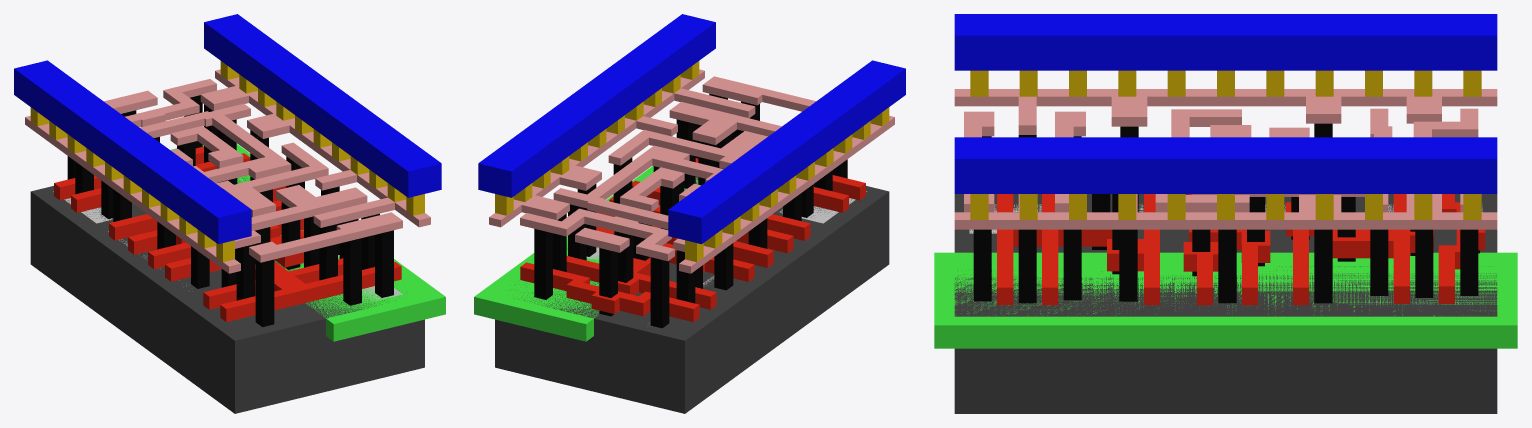
File: sky130_fd_sc_hd__lpflow_inputisolatch_1.obj
3 renders of one model, left to right at view 1: azimuth 30°, elevation 25°; view 2: azimuth 150°, elevation 25°; view 3: azimuth 270°, elevation 25°, orthographic. The views are drawn at different scales.
Parts seen in each view (by area): view 1: subs, metal1, li, licon, poly, nwell, mcon; view 2: subs, metal1, li, licon, poly, nwell, mcon, diff; view 3: metal1, subs, nwell, li, licon, poly, mcon.
Part boxes in pixels (x1=…): subs: x1=30, y1=178, x2=424, y2=413; metal1: x1=14, y1=14, x2=441, y2=244; li: x1=25, y1=69, x2=430, y2=273; licon: x1=67, y1=95, x2=393, y2=327; poly: x1=54, y1=146, x2=401, y2=322; nwell: x1=170, y1=144, x2=445, y2=341; mcon: x1=30, y1=61, x2=424, y2=262; subs: x1=495, y1=177, x2=889, y2=413; metal1: x1=478, y1=14, x2=905, y2=244; li: x1=489, y1=69, x2=894, y2=273; licon: x1=534, y1=93, x2=847, y2=328; poly: x1=520, y1=158, x2=865, y2=322; nwell: x1=474, y1=166, x2=698, y2=341; mcon: x1=495, y1=61, x2=889, y2=262; diff: x1=703, y1=191, x2=866, y2=286; metal1: x1=954, y1=14, x2=1497, y2=193; subs: x1=954, y1=194, x2=1497, y2=413; nwell: x1=934, y1=252, x2=1517, y2=348; li: x1=954, y1=89, x2=1497, y2=229; licon: x1=973, y1=123, x2=1479, y2=303; poly: x1=997, y1=194, x2=1485, y2=305; mcon: x1=970, y1=70, x2=1481, y2=219.
Size of the model in its own units: 3.2 by 2.74 by 5.44.
